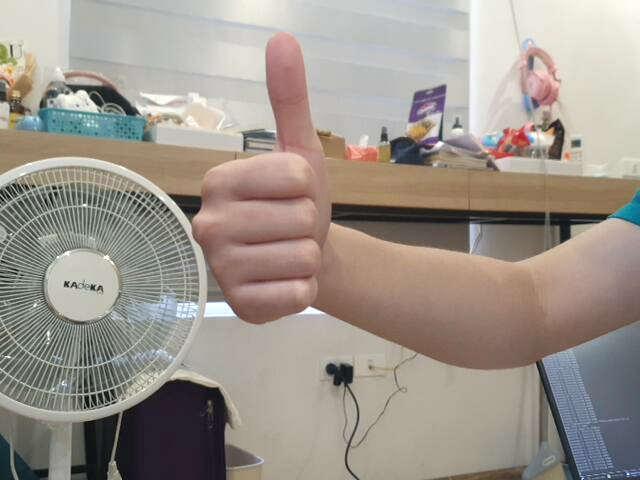ThumbsUp: (188, 29, 334, 332)
